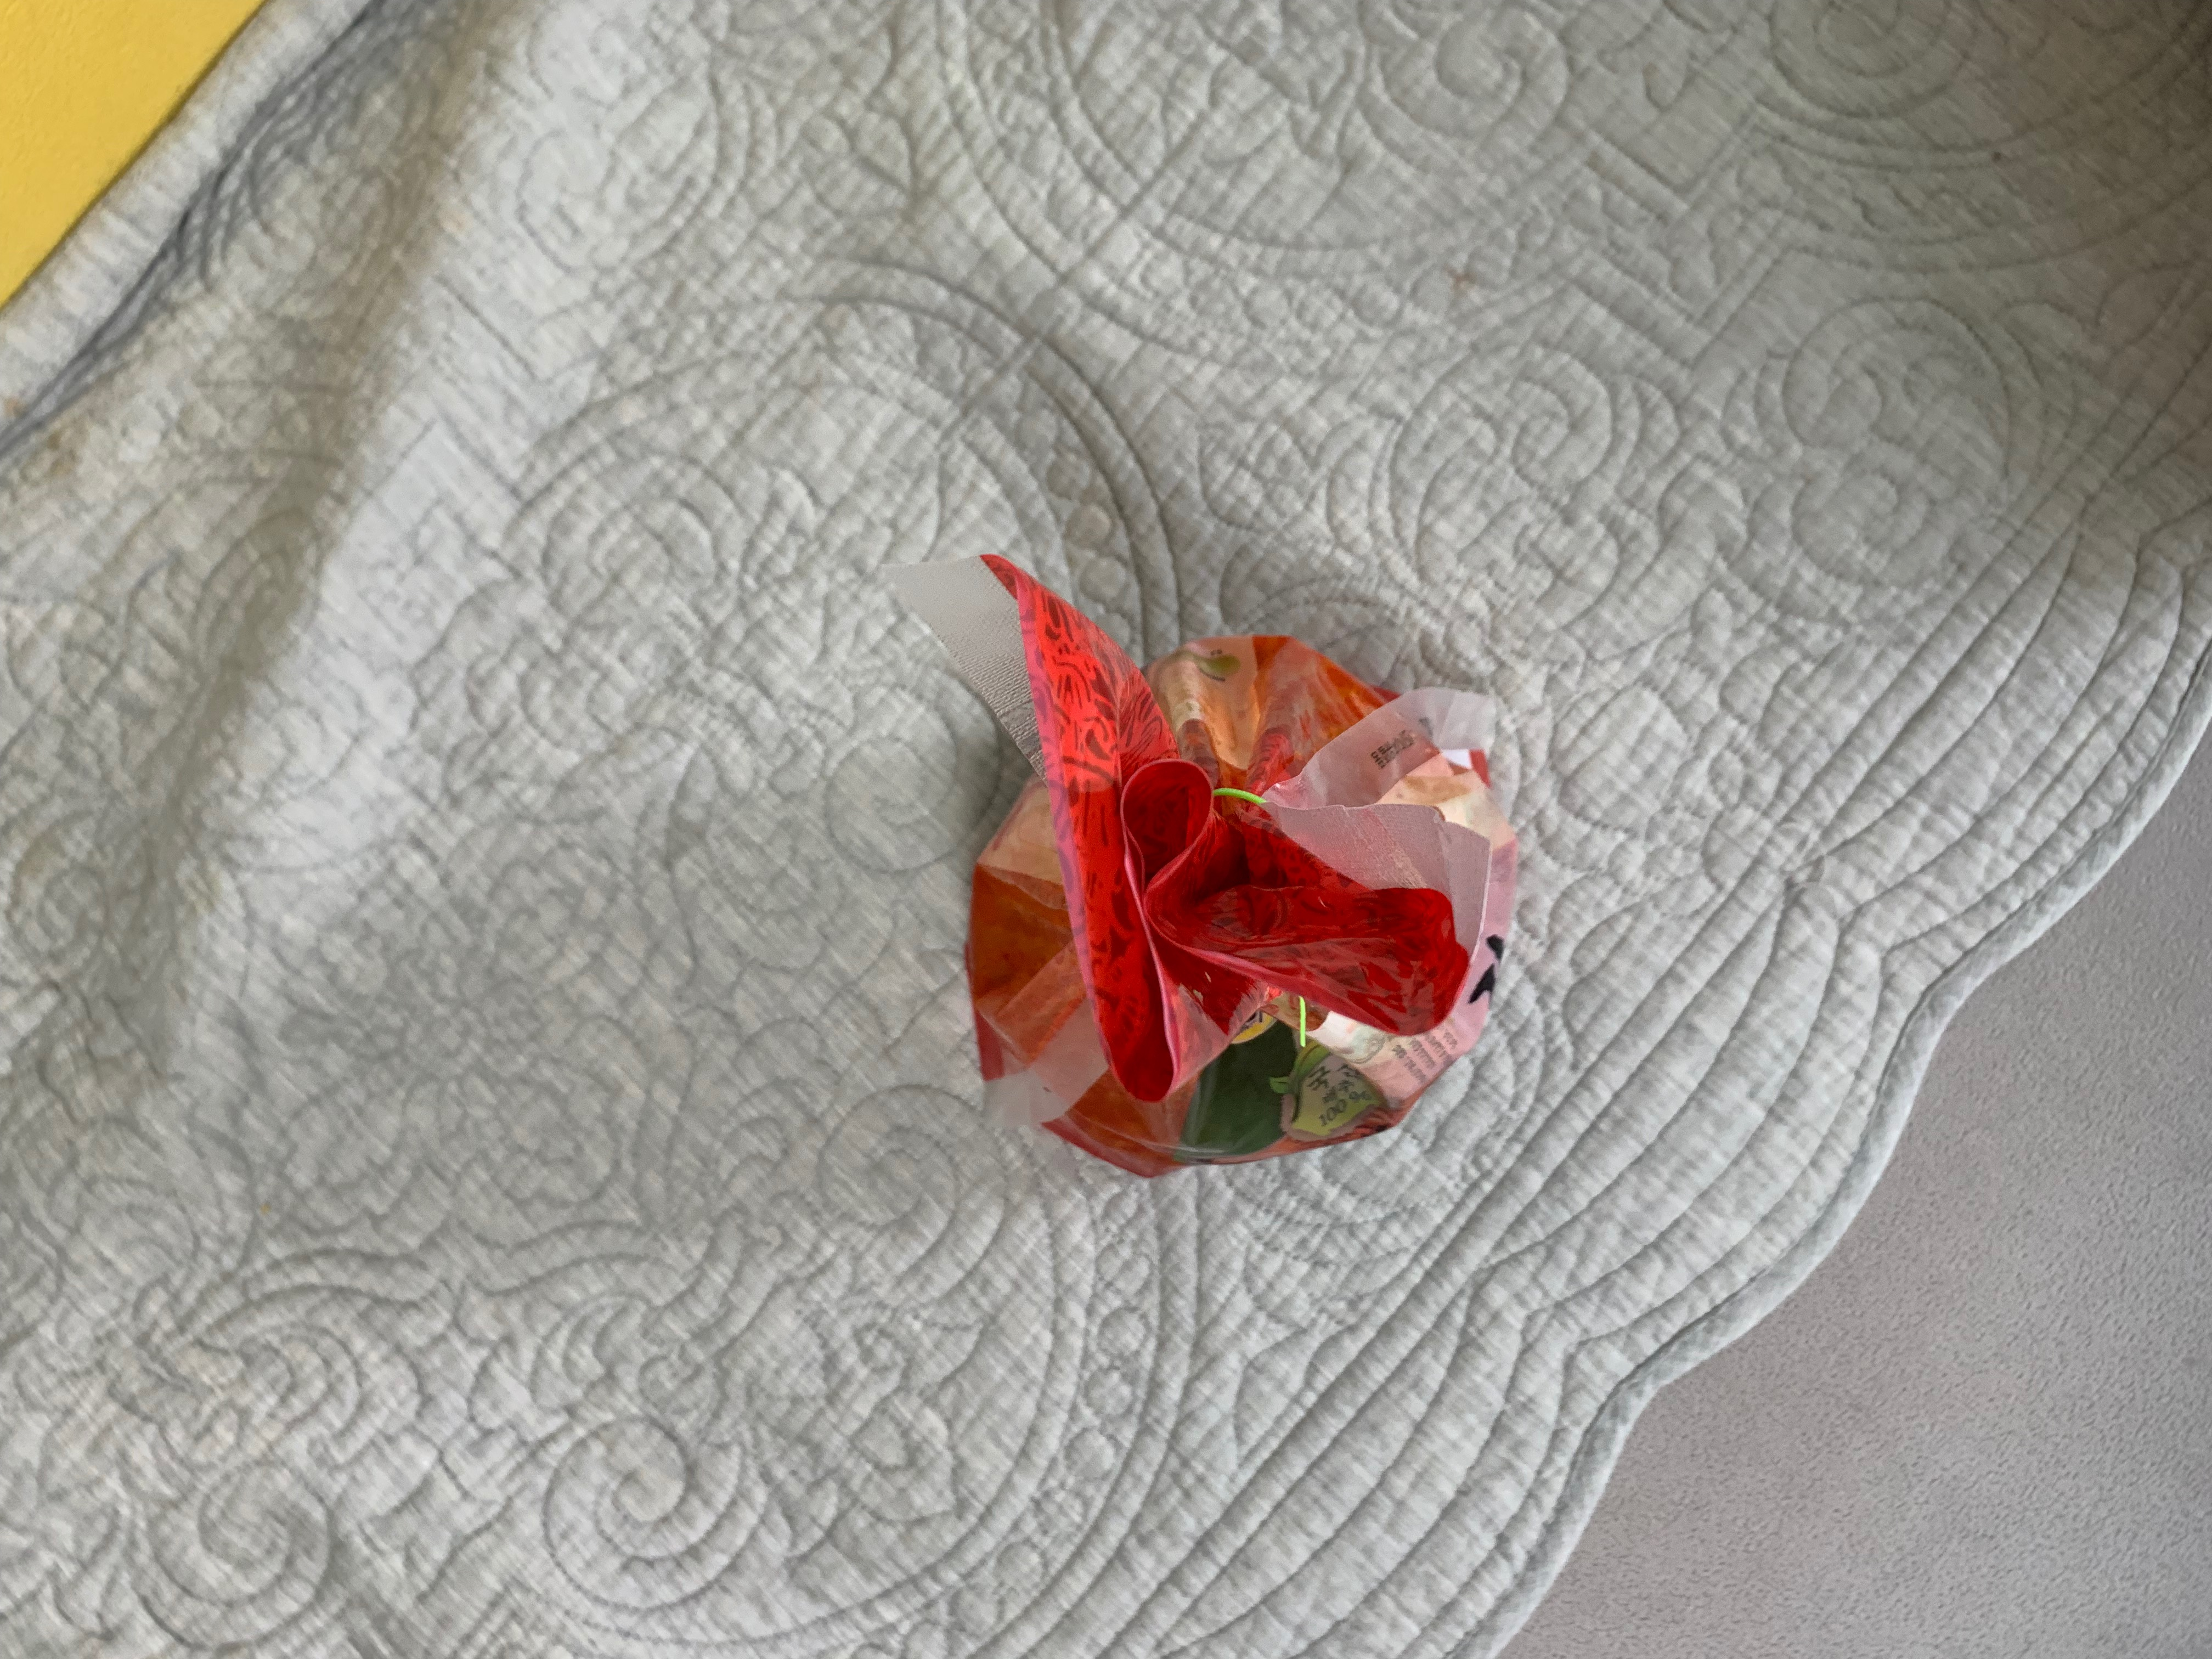kimchi: (965, 558, 1517, 1180)
